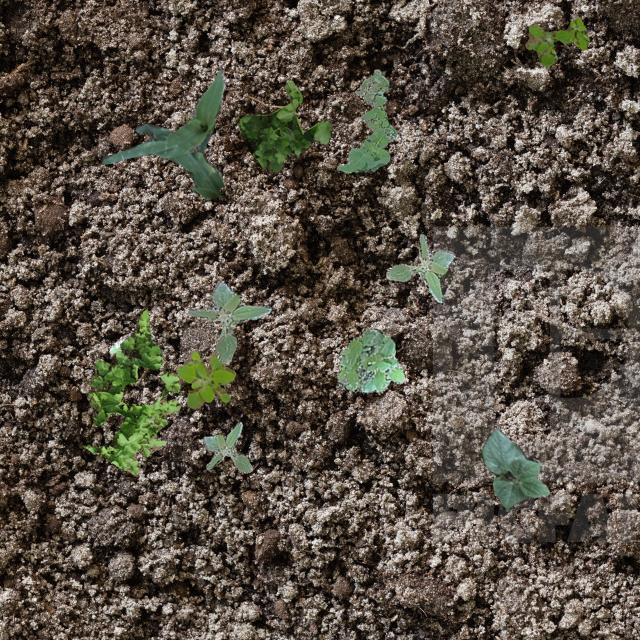crop: (100, 68, 224, 198), (481, 428, 548, 511)
weed: (82, 308, 180, 474), (235, 80, 332, 172), (188, 280, 270, 362), (336, 67, 396, 172), (386, 232, 454, 302), (336, 326, 404, 392), (174, 350, 234, 408), (524, 15, 588, 66), (202, 421, 252, 472), (109, 330, 131, 354)
